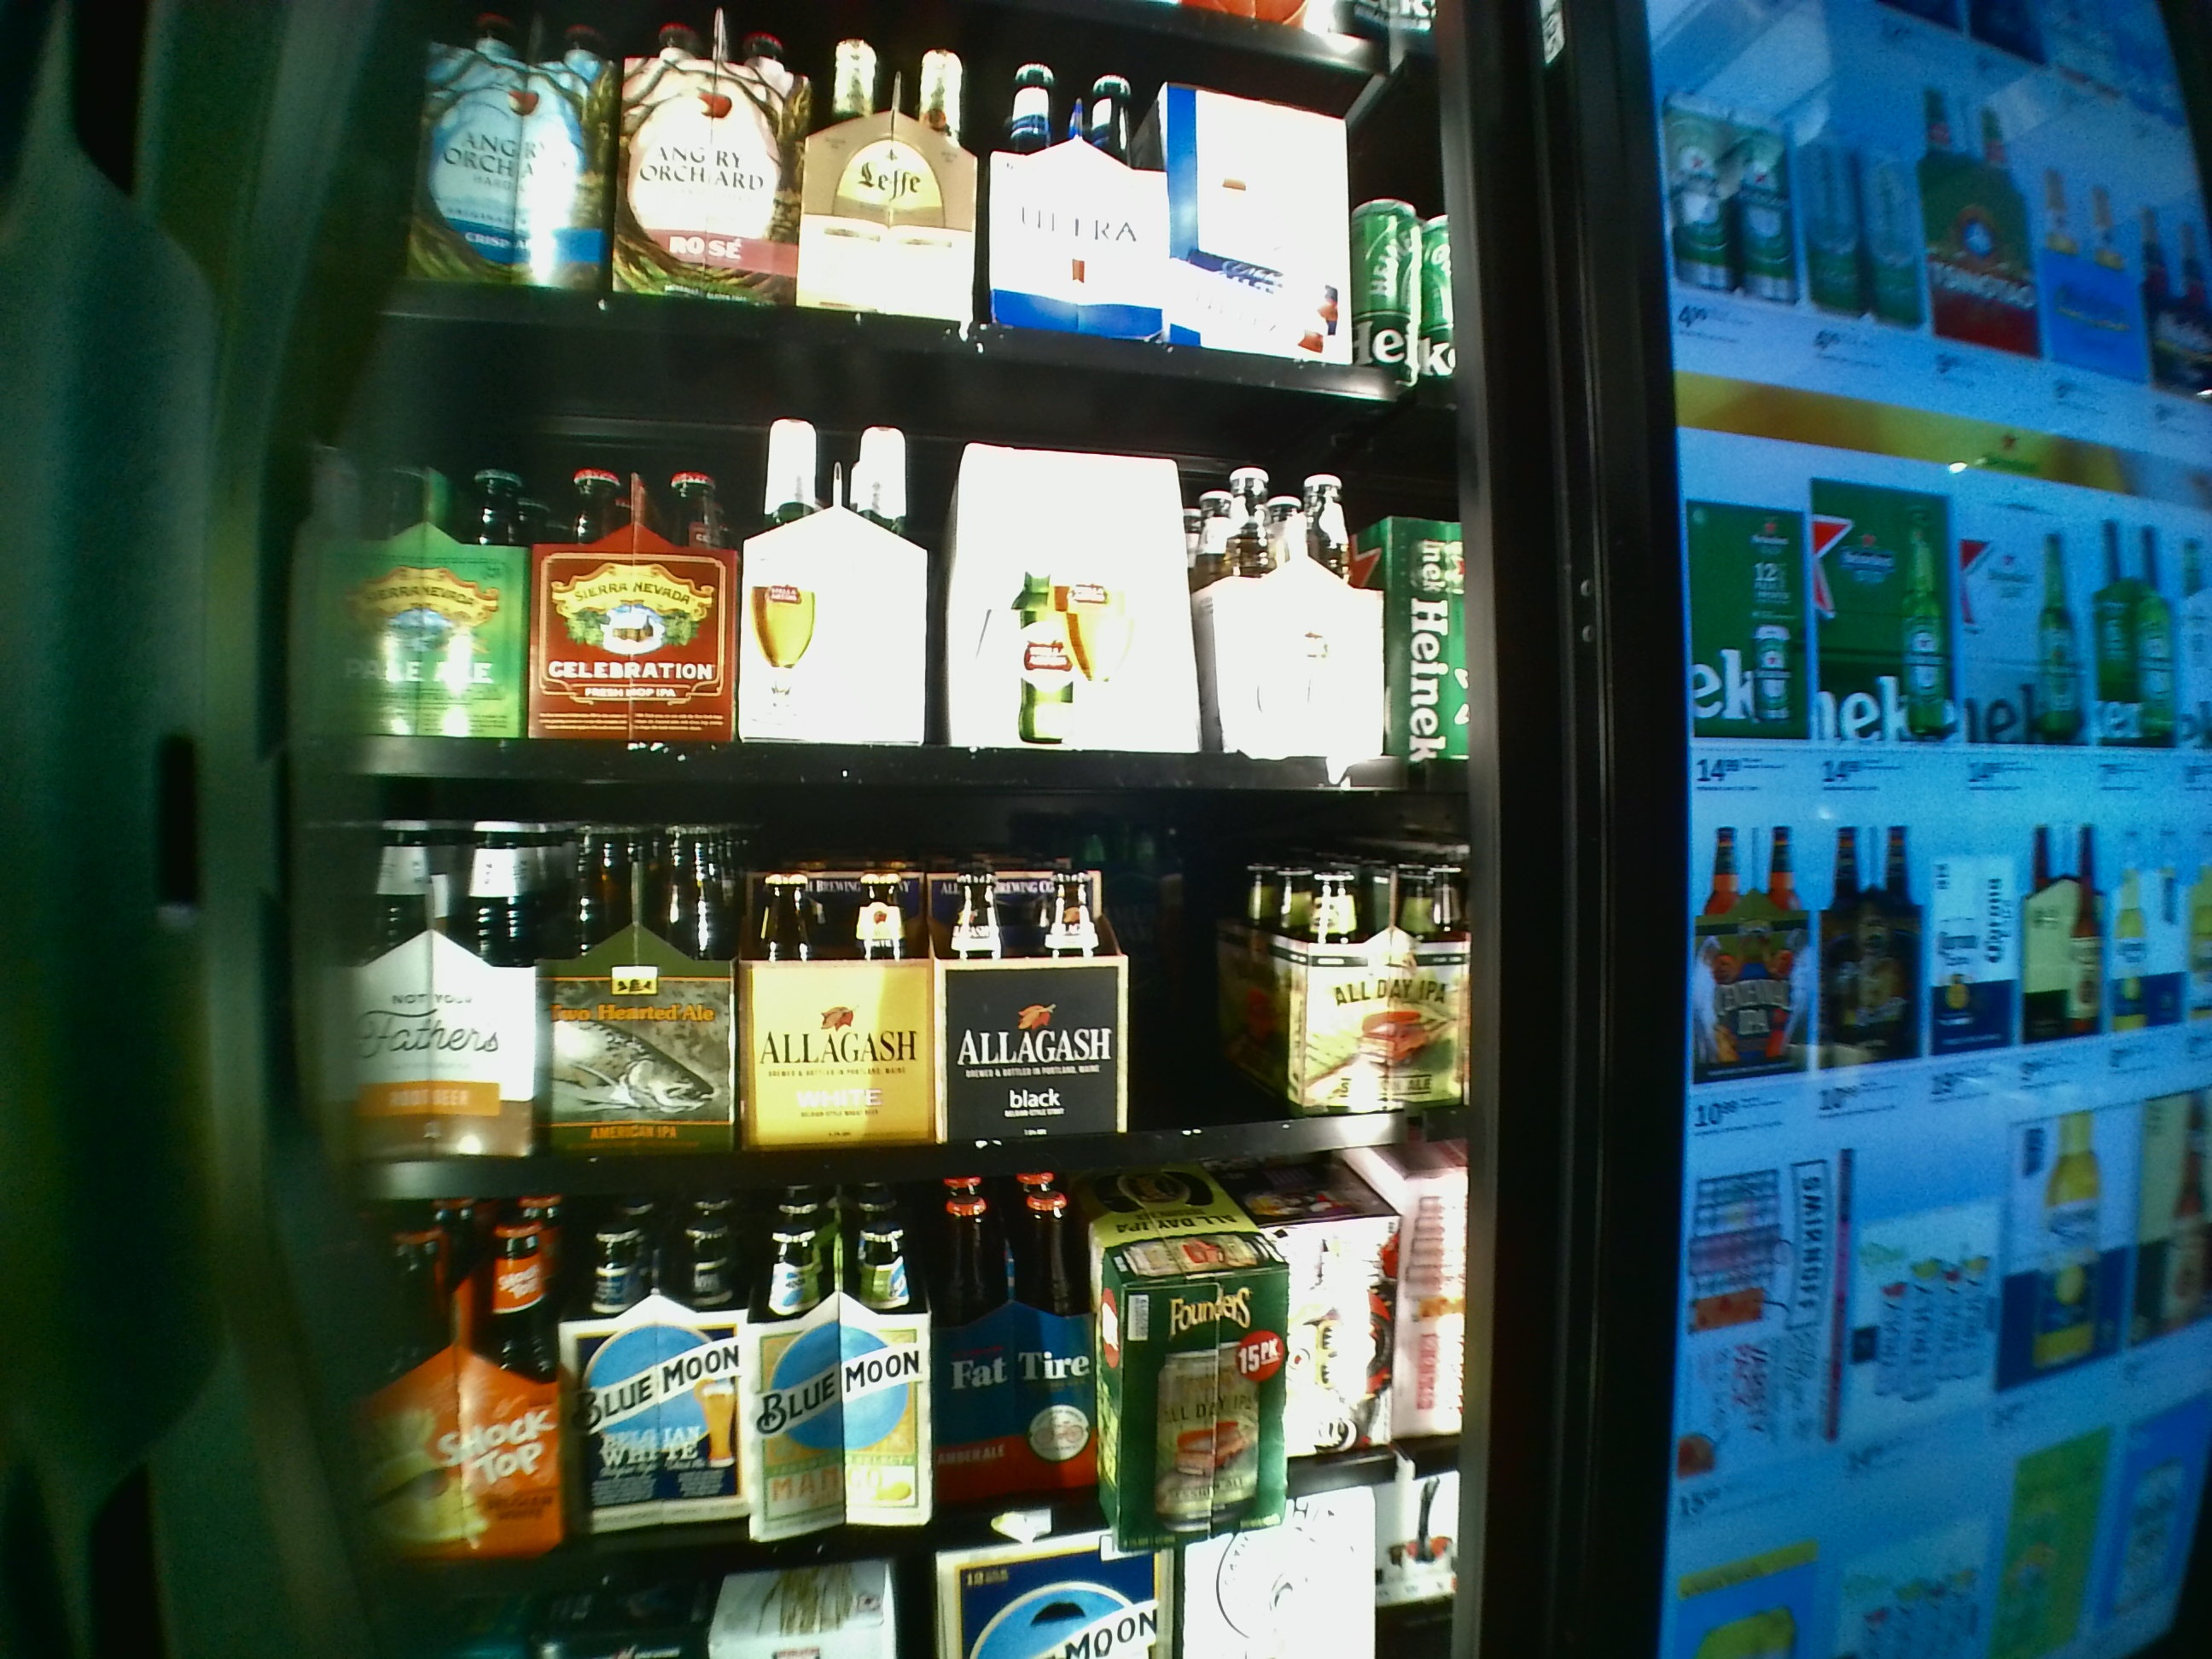shelf: (294, 331, 1474, 796), (294, 803, 1474, 1201)
